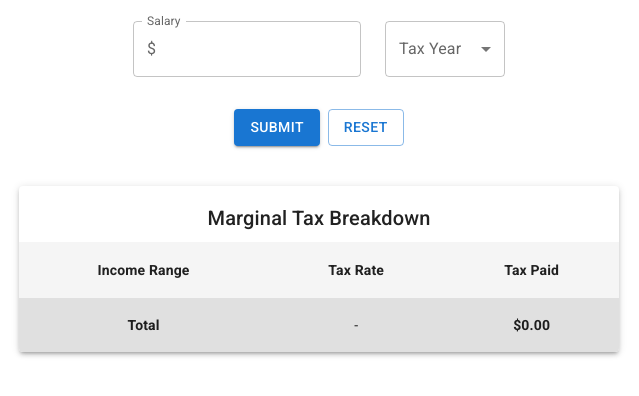
Scenario: TaxCalculator › displays validation errors when inputs are empty
Click the button "Submit": (277, 127) [234,109,320,146]
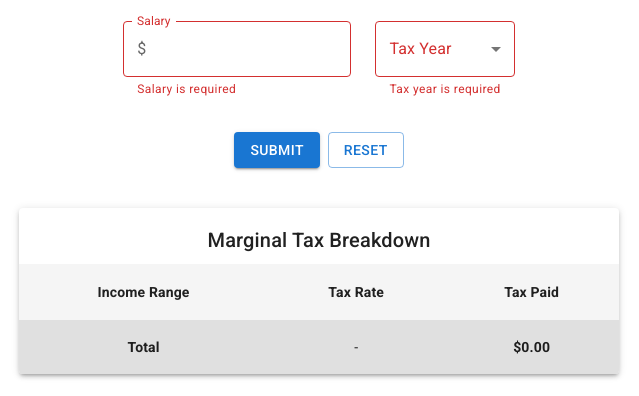
Expected: the text "Tax year is required" is shown, [389,80,501,100]
Expected: the text "Salary is required" is shown, [137,82,236,96]
